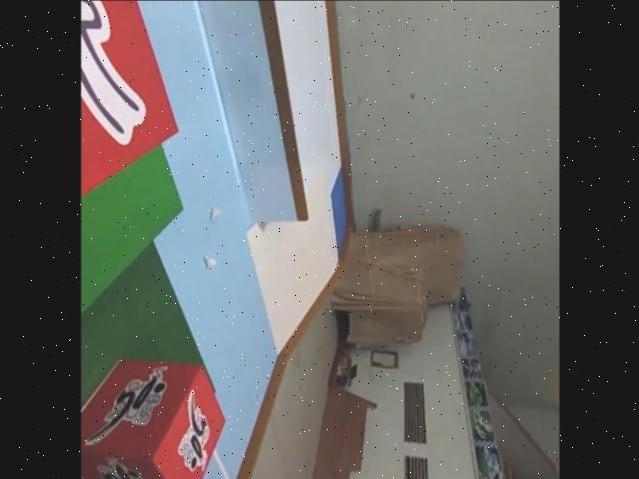R1: (80, 356, 228, 479)
R2 Fake: (80, 0, 182, 203)
